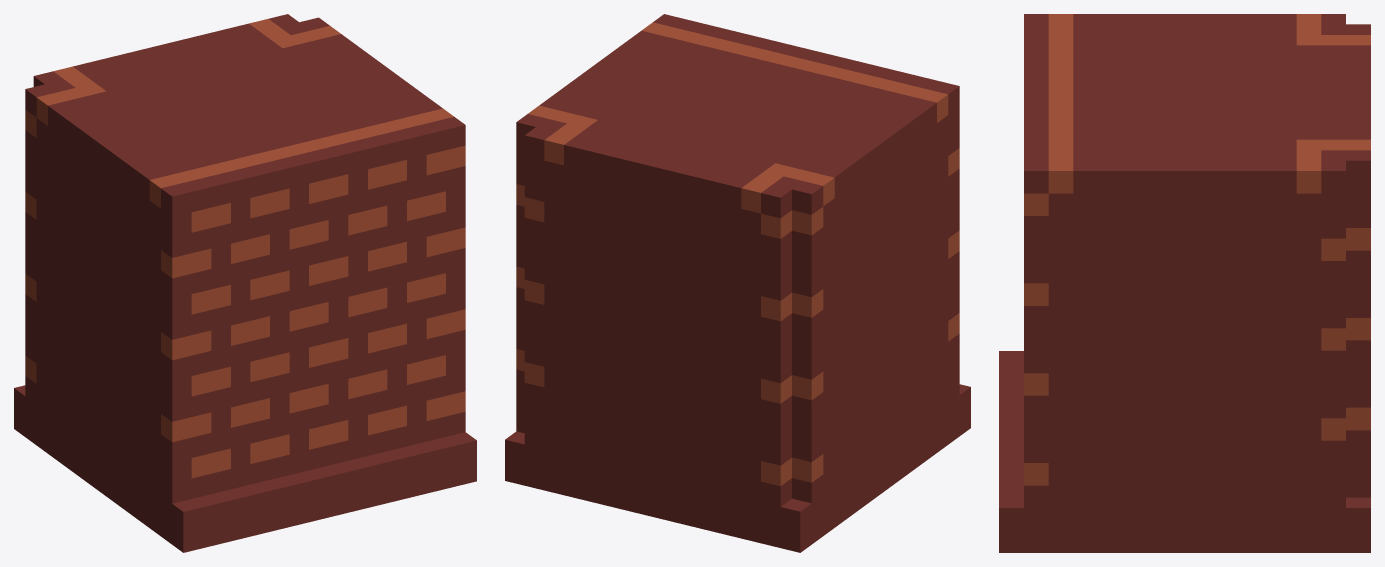
The model's file is dungeon_b_a_inner_wall_segment_b.obj.
3 views of the same model, side by side, from view 1: azimuth 30°, elevation 25°; view 2: azimuth 150°, elevation 25°; view 3: azimuth 270°, elevation 25° (orthographic). The views are drawn at different scales.
Bounding box in the file's own units: 1.5 × 1.7 × 1.5.
Materials: 1 (1 with a texture image).
